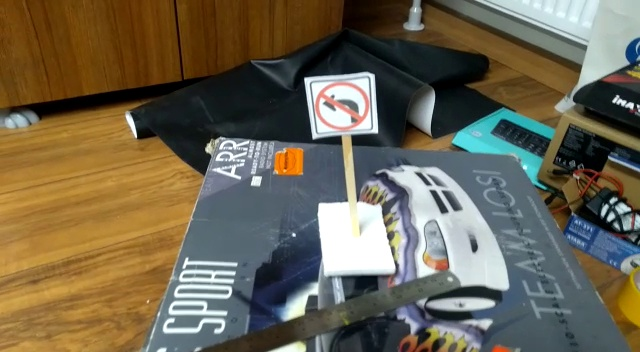sola_donulmez: (311, 81, 375, 130)
